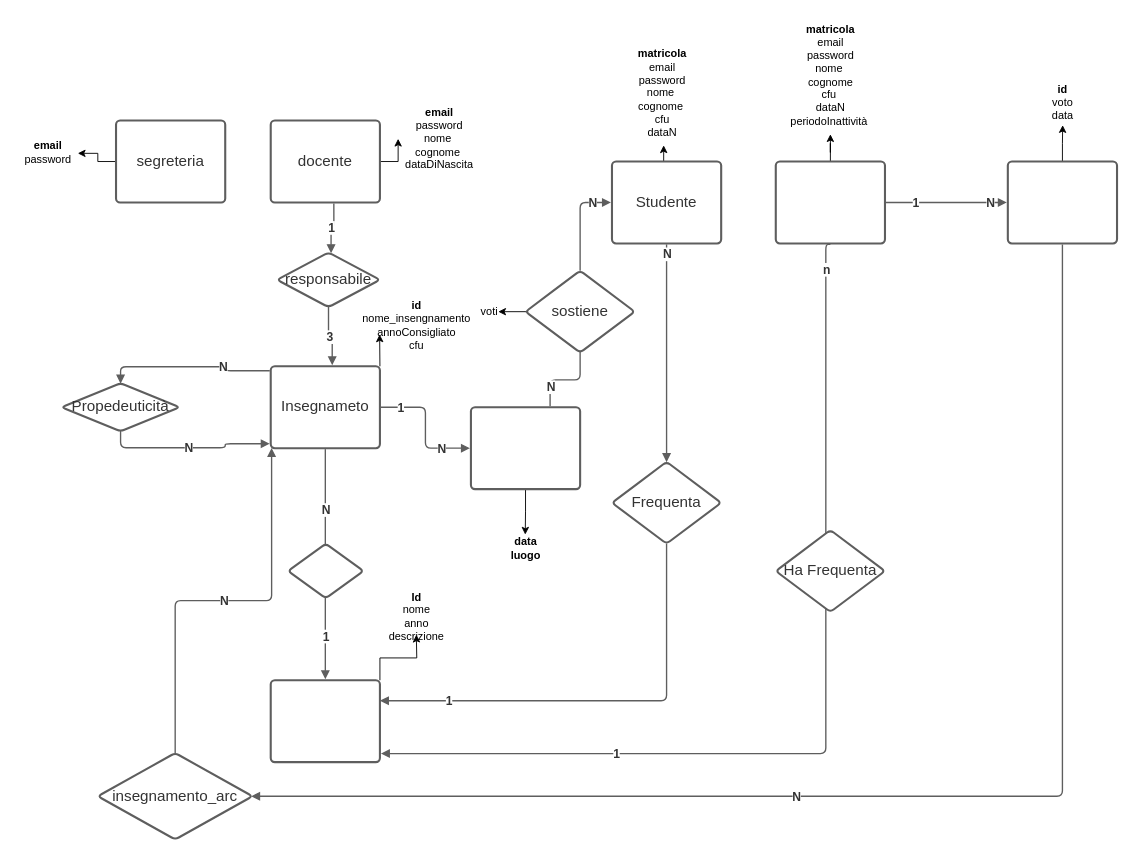
Some shapes in this 1134 by 856 pixel diagram are drawn without their labels. Each missing label, with the box of its shape:
appartiene: (287, 542, 364, 599)
appello: (469, 406, 581, 490)
Corso di laurea: (269, 679, 381, 763)
Studente_arc: (774, 160, 886, 244)
voti_arc: (1006, 160, 1118, 244)
